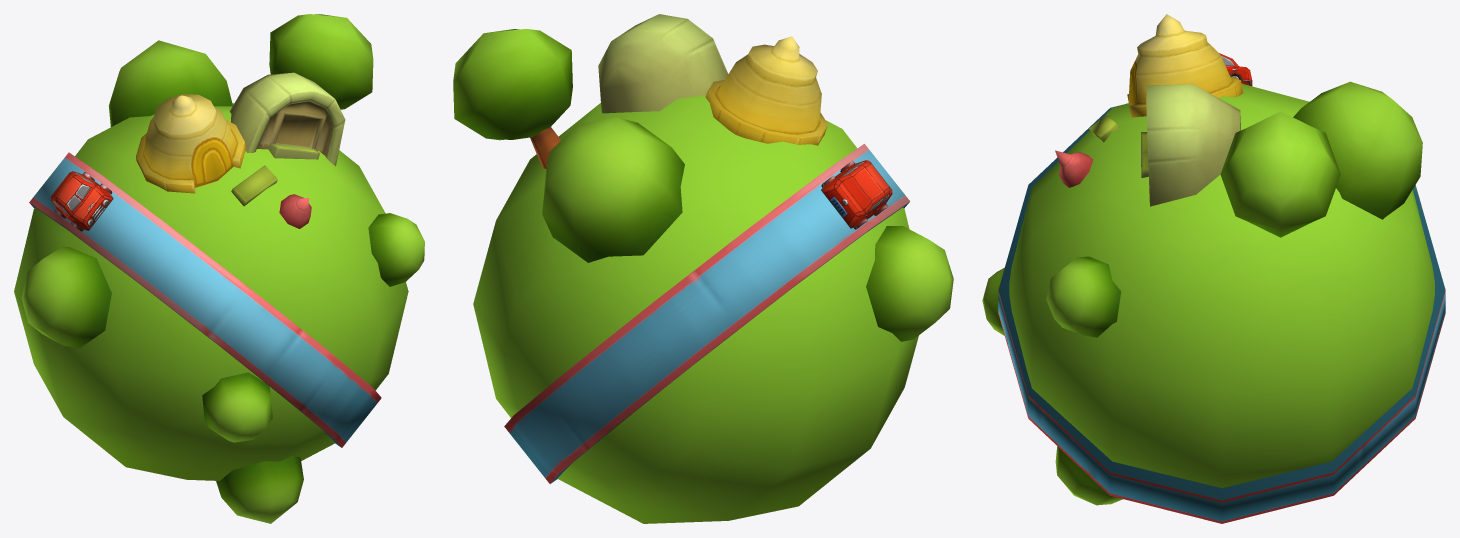
3 views of the same model, side by side, from view 1: azimuth 30°, elevation 25°; view 2: azimuth 150°, elevation 25°; view 3: azimuth 270°, elevation 25° (orthographic). The views are drawn at different scales.
Parts seen in each view (by area): view 1: Object086, Object089; view 2: Object086, Object089; view 3: Object086.
Part boxes in pixels (x1,y1,x2,y2): Object086: (14, 14, 424, 523); Object089: (51, 171, 113, 231); Object086: (453, 14, 953, 523); Object089: (821, 160, 892, 229); Object086: (982, 14, 1445, 523).
Bounding box in the file's own units: 13215 × 13519 × 12347.
